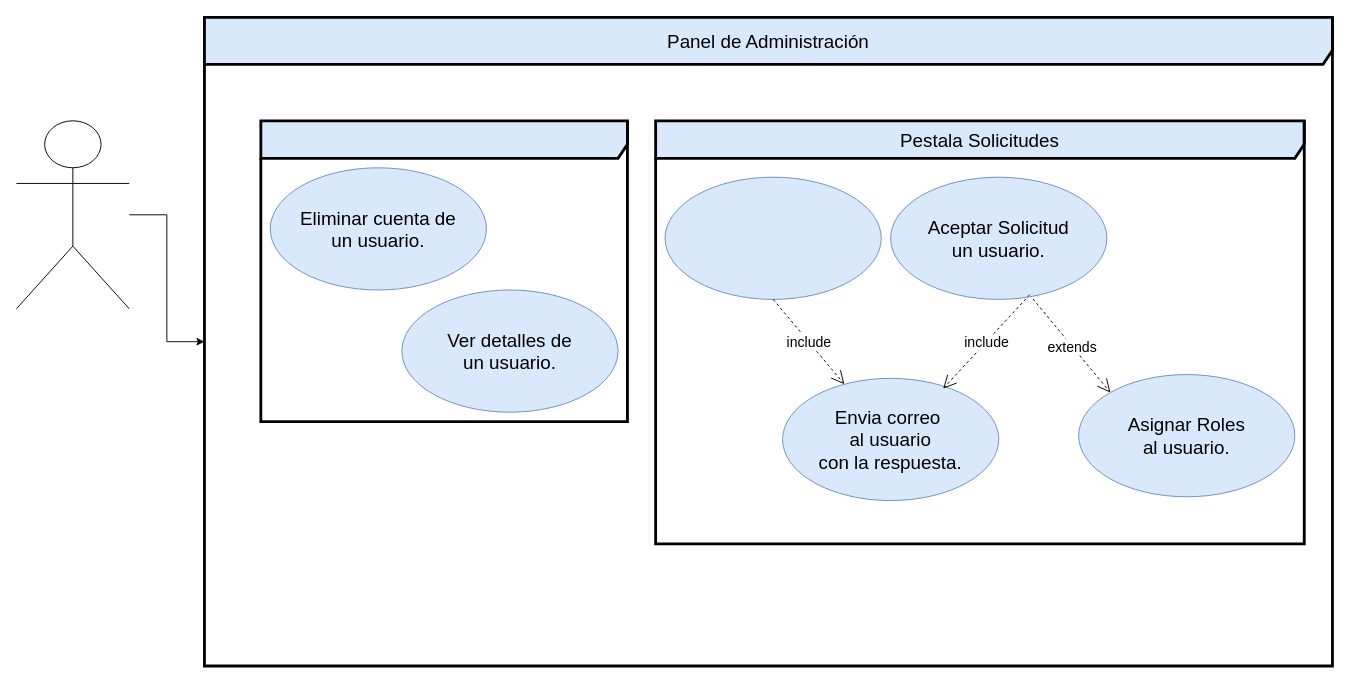
Image size: 1350x683. Some labels were removed from this diagram. The shapes that lost their labels are listed below. From the top down, each one's centre as x and y in pixels, then its label:
At point (72, 214): "Admin".
At point (772, 237): "Rechazar Solicitud un usuario.".
At point (443, 271): "Pestaña Usuarios".
